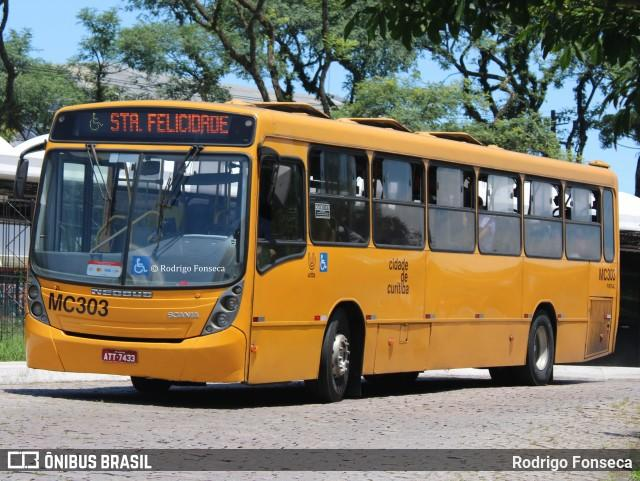STA. FELICIDADE: (106, 107, 234, 135)
